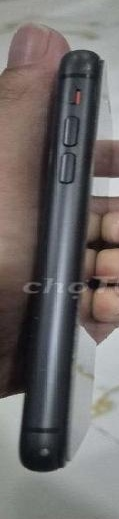scratch: (19, 295, 53, 358), (21, 434, 66, 464), (43, 138, 66, 172)
